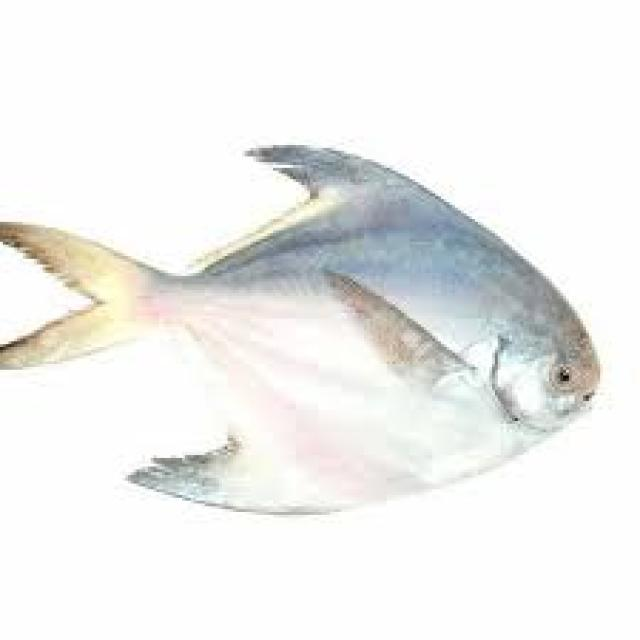pomfred: (0, 145, 605, 516)
